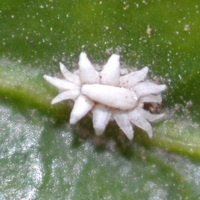insect: (44, 52, 166, 139)
